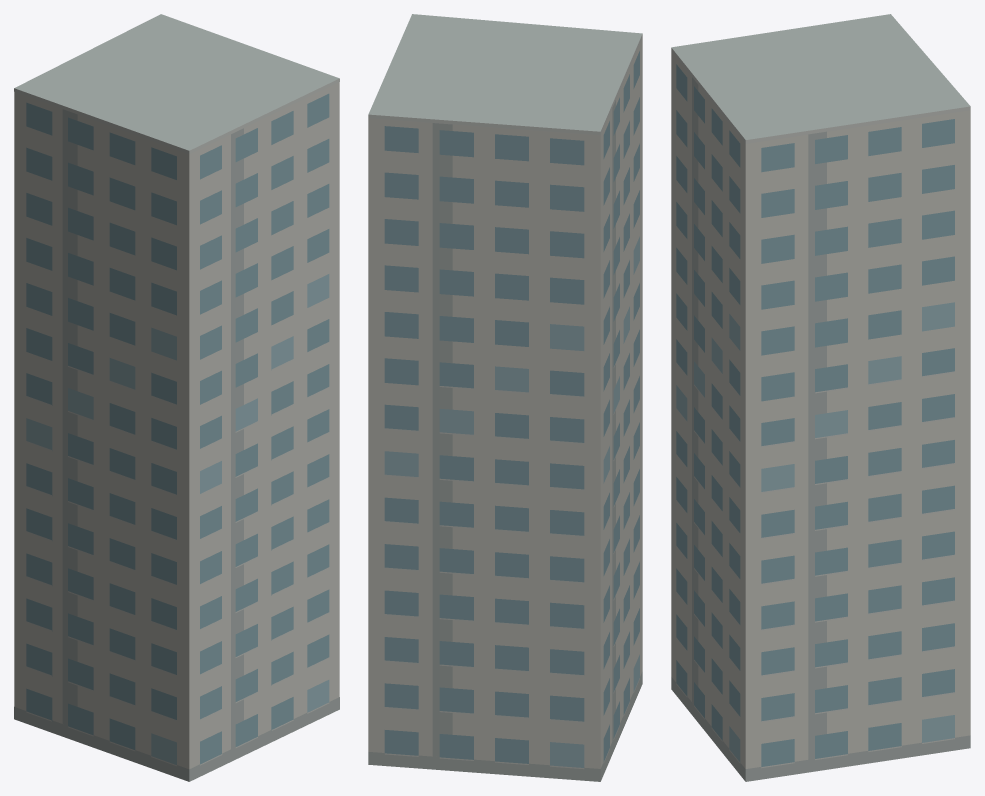
File: survey-upis-32864933.glb
3 views of the same model, side by side, from view 1: azimuth 30°, elevation 25°; view 2: azimuth 150°, elevation 25°; view 3: azimuth 270°, elevation 25° (orthographic). The views are drawn at different scales.
Visible parts, largest first — view 1: survey-upis-32864933.tmp; view 2: survey-upis-32864933.tmp; view 3: survey-upis-32864933.tmp.
Boxes of the visible parts, x1,y1,x2,y2 form: survey-upis-32864933.tmp: (14,14,339,781); survey-upis-32864933.tmp: (368,14,642,781); survey-upis-32864933.tmp: (671,14,970,781).
Bounding box in the file's own units: 18.01 × 42.7 × 18.07.
